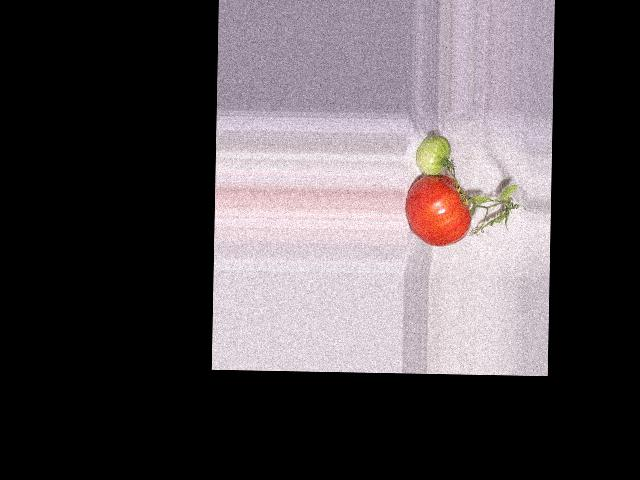tomato: (404, 173, 472, 246)
